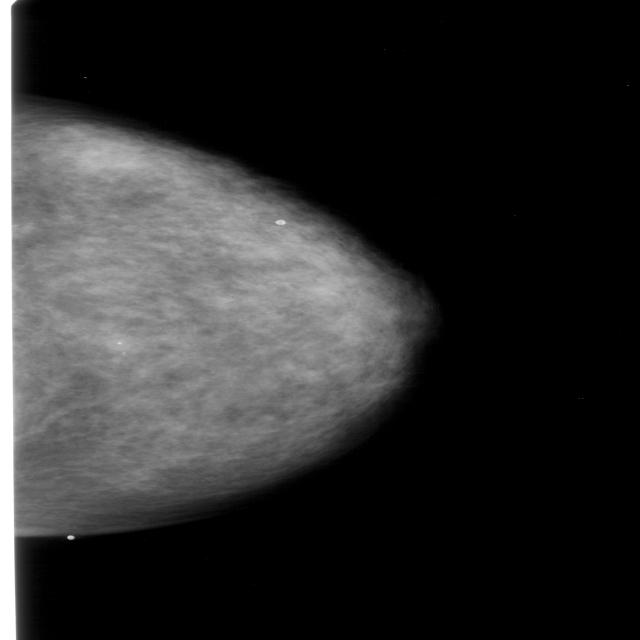normal: (0, 121, 435, 547)
